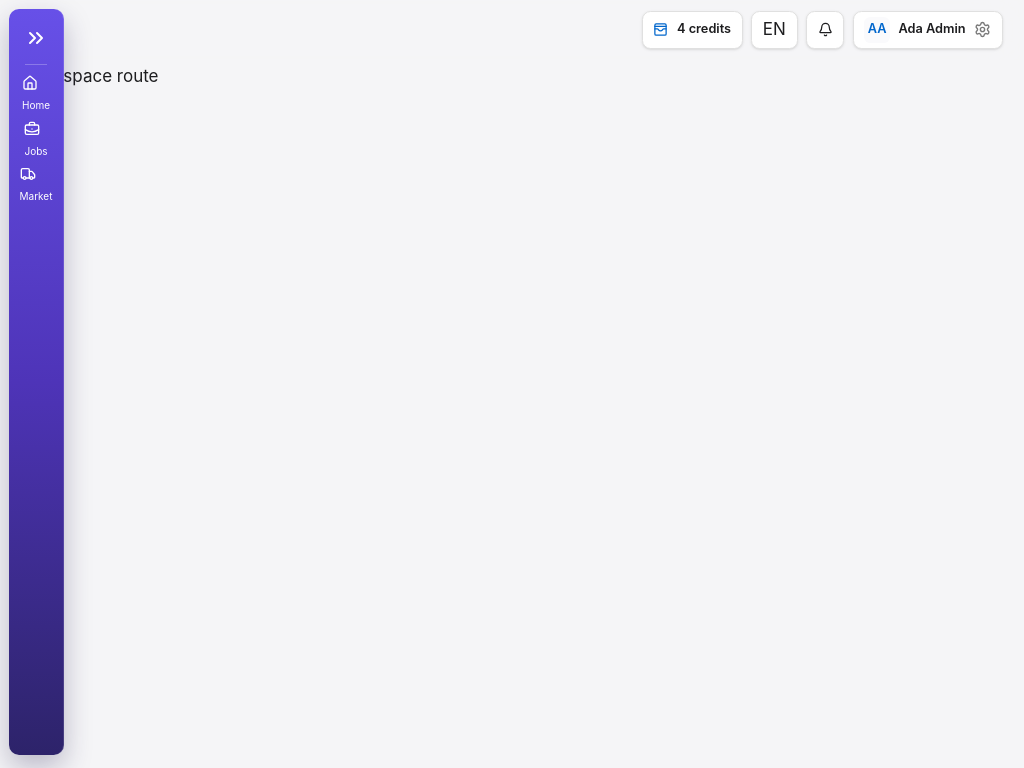
Test case: AppShell navigation › shows job seeker navigation without company-only fleet links
The width and height of the screenshot is (1024, 768).
Click the button named "Pin sidebar" at (36, 38), box [17,21,55,55]
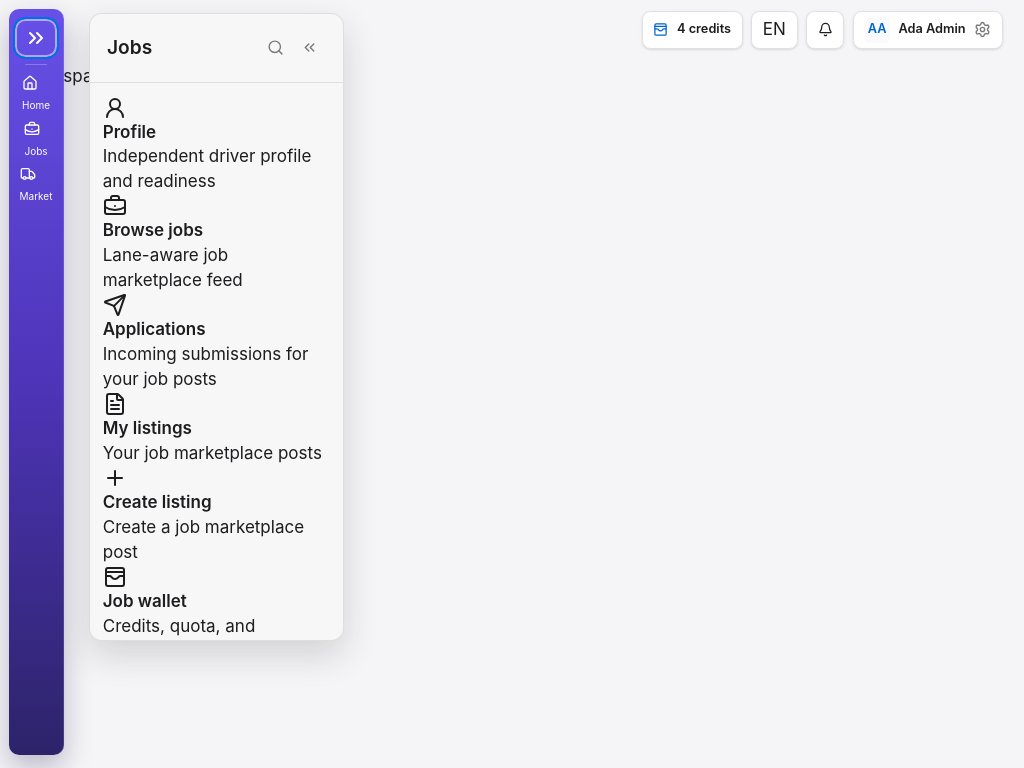
Expected: the link "My listings Your job marketplace posts" is shown, [103,392,330,463]
Expected: the link "Job wallet Credits, quota, and purchases" is shown, [103,565,255,640]
